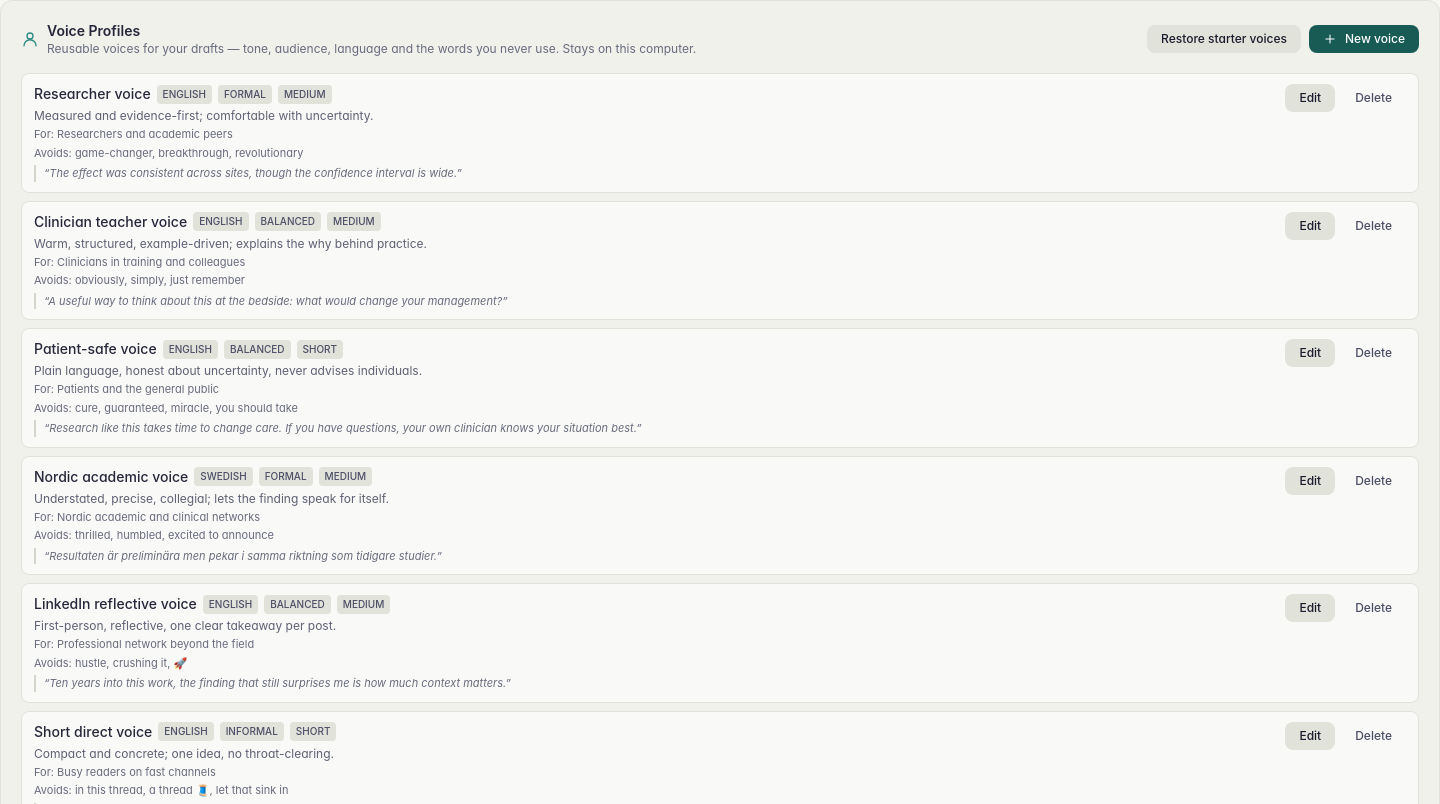
VoiceProfilesScreen › deletes a voice profile
Click the button with aria-label "Delete Short direct voice" at (1374, 736), box [1341,722,1406,750]
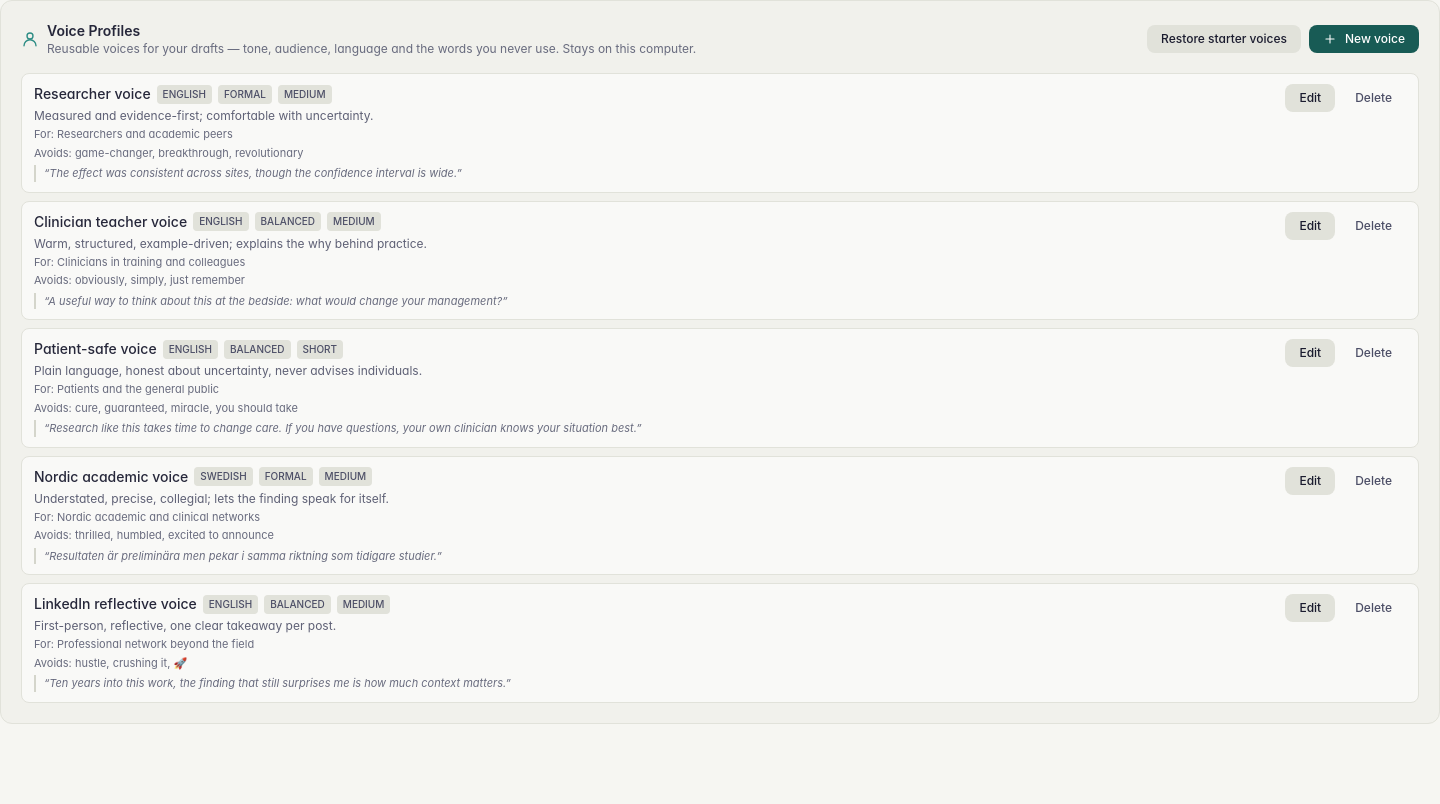
Expected: the number of list items with test id "voice-profile" is 5, [21,73,1419,192]; [21,200,1419,320]; [21,328,1419,448]; [21,456,1419,575]; [21,583,1419,702]
